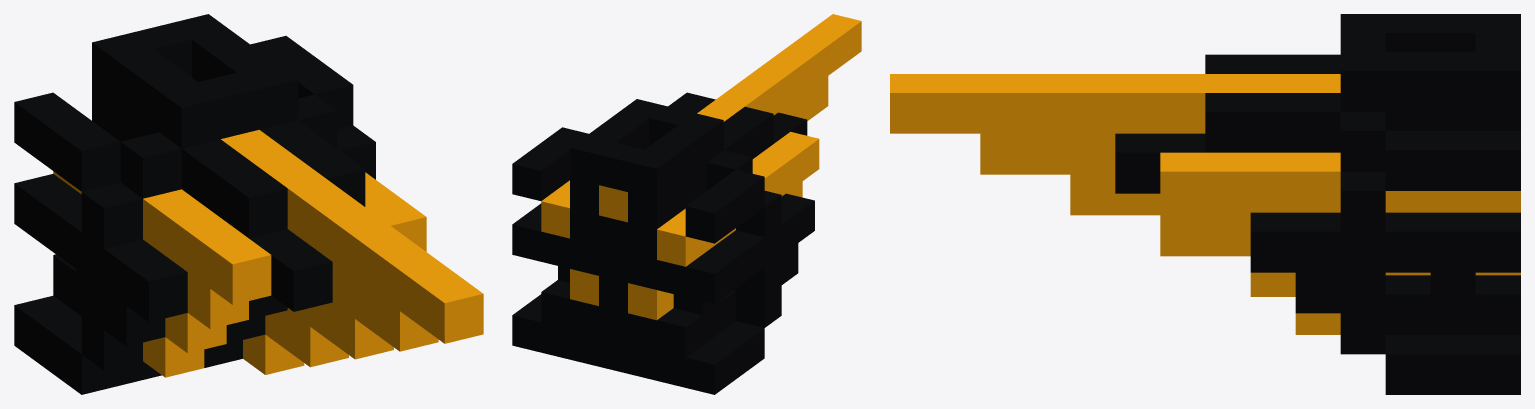
The model's file is FrontSmall1.FBX.
3 renders of one model, left to right at view 1: azimuth 30°, elevation 25°; view 2: azimuth 150°, elevation 25°; view 3: azimuth 270°, elevation 25°, orthographic. The views are drawn at different scales.
Parts seen in each view (by area): view 1: FrontSmall1; view 2: FrontSmall1; view 3: FrontSmall1.
Boxes of the visible parts, <box> form: FrontSmall1: <box>14,14,483,394</box>; FrontSmall1: <box>512,14,861,394</box>; FrontSmall1: <box>890,14,1520,394</box>.
Size of the model in its own units: 7 by 14 by 7.
